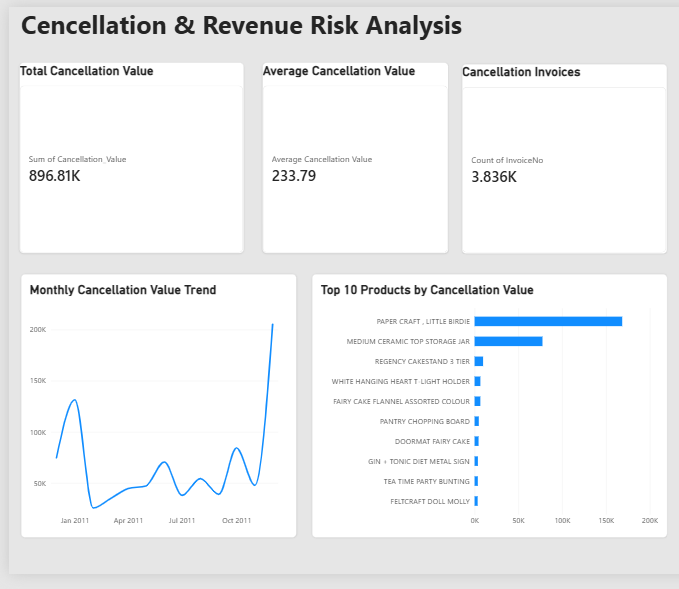

The dashboard page shown, as its layout file describes it:
{"tool":"powerbi","page":{"name":"Cancellation Analysis","canvas":[1920,1080],"ordinal":1},"visuals":[{"type":"cardVisual","title":"Total Cancellation Value","fields":{"Data":["Sum(cancellations.Cancellation_Value)"]},"box":[20.4,106.8,427,363.4],"z":0},{"type":"cardVisual","title":"Cancellation Invoices","fields":{"Data":["Count(cancellations.InvoiceNo)"]},"box":[863.1,109,390.7,361.1],"z":1000},{"type":"lineChart","title":"Monthly Cancellation Value Trend","fields":{"Category":["cancellations.YearMonth.Variation.Date Hierarchy.Year","cancellations.YearMonth.Variation.Date Hierarchy.Quarter","cancellations.YearMonth.Variation.Date Hierarchy.Month","cancellations.YearMonth.Variation.Date Hierarchy.Day"],"Y":["Sum(cancellations.Cancellation_Value)"]},"box":[22.7,508.8,524.7,502],"z":2000},{"type":"clusteredBarChart","title":"Top 10 Products by Cancellation Value","fields":{"Category":["cancellations.Description"],"Y":["Sum(cancellations.Cancellation_Value)"]},"box":[576.9,508.8,676.8,502],"z":3000},{"type":"cardVisual","title":"Average Cancellation Value","fields":{"Data":["Average Order Value.Average Cancellation Value"]},"box":[481.5,106.8,354.3,363.4],"z":4000},{"type":"textbox","box":[1128,0,252,290],"z":5000},{"type":"textbox","box":[1404,0,252,290],"z":6000},{"type":"textbox","box":[1666,0,252,290],"z":7000},{"type":"textbox","box":[21.7,0,1053.3,108.3],"z":8000}]}

Visuals, with their boxes on the page's 1920x1080 design canvas (x1, y1, x2, y2). These are canvas units, not pixel positions in the 679x589 screenshot, which may show the page scaled, cropped or inside an application window:
"Total Cancellation Value" cardVisual: [x1=20, y1=107, x2=447, y2=470]
"Cancellation Invoices" cardVisual: [x1=863, y1=109, x2=1254, y2=470]
"Monthly Cancellation Value Trend" lineChart: [x1=23, y1=509, x2=547, y2=1011]
"Top 10 Products by Cancellation Value" clusteredBarChart: [x1=577, y1=509, x2=1254, y2=1011]
"Average Cancellation Value" cardVisual: [x1=482, y1=107, x2=836, y2=470]
textbox: [x1=1128, y1=0, x2=1380, y2=290]
textbox: [x1=1404, y1=0, x2=1656, y2=290]
textbox: [x1=1666, y1=0, x2=1918, y2=290]
textbox: [x1=22, y1=0, x2=1075, y2=108]
